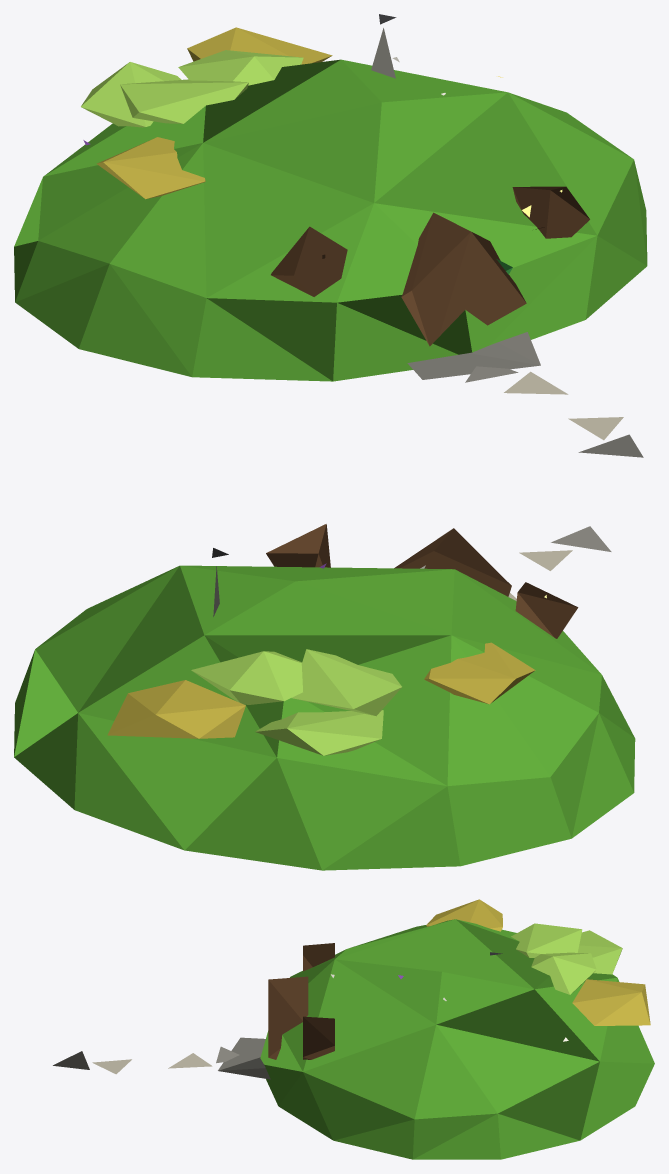
Rendered from hobbit_hole_1_lod2.glb.
3 renders of one model, top to bottom at view 1: azimuth 30°, elevation 25°; view 2: azimuth 150°, elevation 25°; view 3: azimuth 270°, elevation 25°, orthographic. The views are drawn at different scales.
Parts seen in each view (by area): view 1: hobbit_hole_1_lod2; view 2: hobbit_hole_1_lod2; view 3: hobbit_hole_1_lod2.
Part boxes in pixels (x1=…): hobbit_hole_1_lod2: x1=14, y1=14, x2=647, y2=457; hobbit_hole_1_lod2: x1=14, y1=524, x2=635, y2=870; hobbit_hole_1_lod2: x1=53, y1=899, x2=654, y2=1159.
Bounding box in the file's own units: 11.31 × 3.8 × 15.95.
